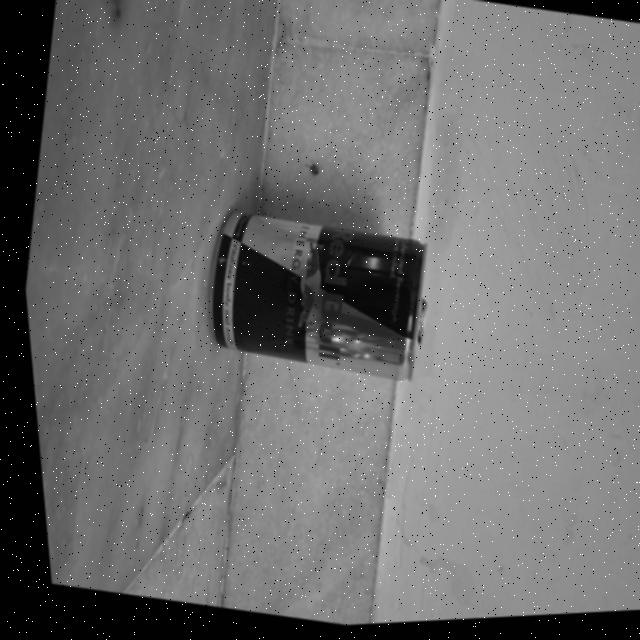Redbul: (164, 163, 455, 430)
